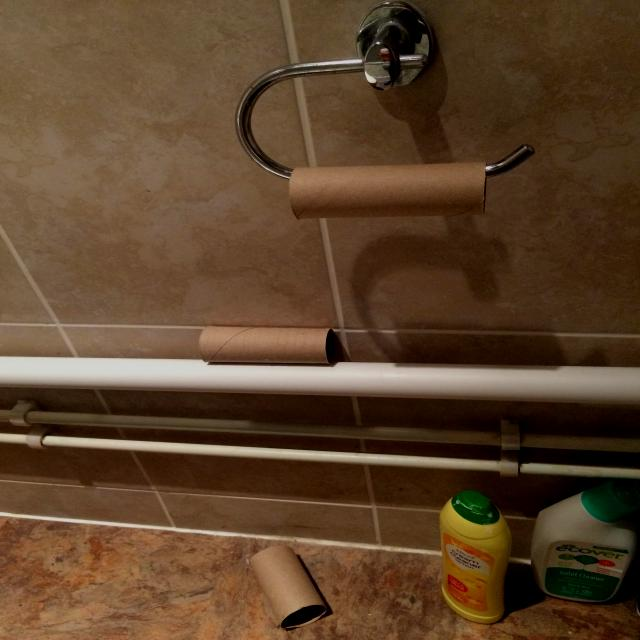Other plastic container: (531, 478, 640, 603), (439, 490, 512, 624)
Plastic bottle cap: (552, 478, 640, 523)
Toilet tube: (289, 162, 487, 220), (249, 545, 327, 628), (199, 326, 335, 364)
